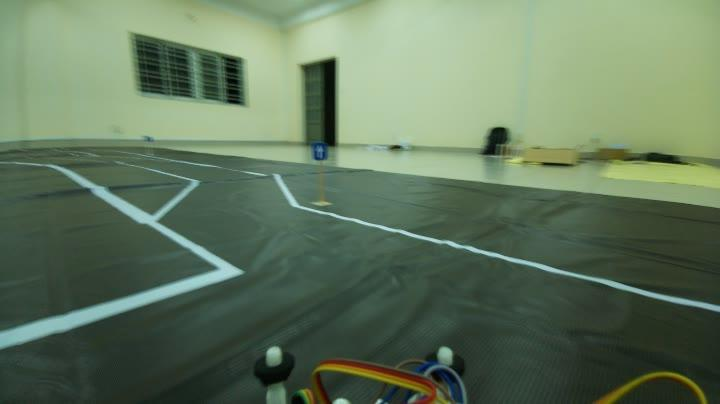onewayroad: (308, 140, 332, 164)
